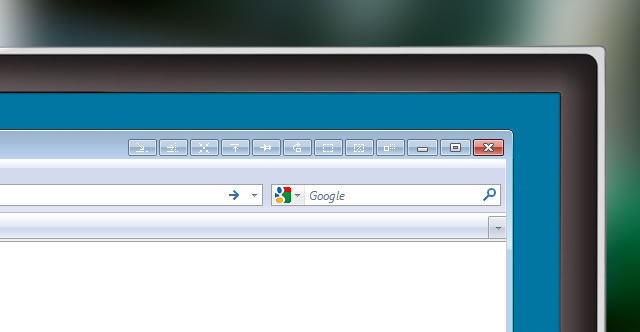close: (472, 138, 505, 157)
